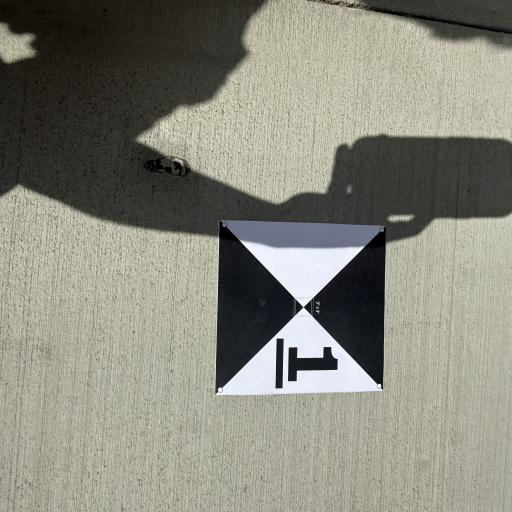target1: (209, 214, 392, 404)
